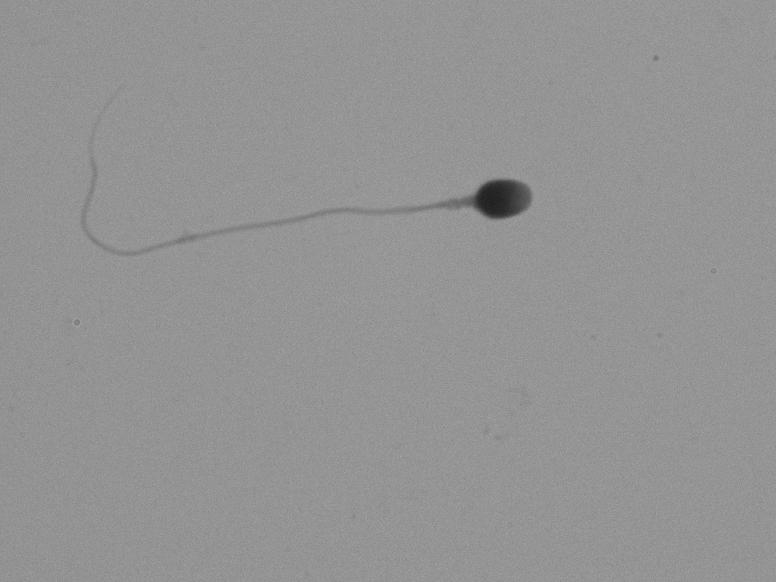Normal: (68, 104, 570, 337)
